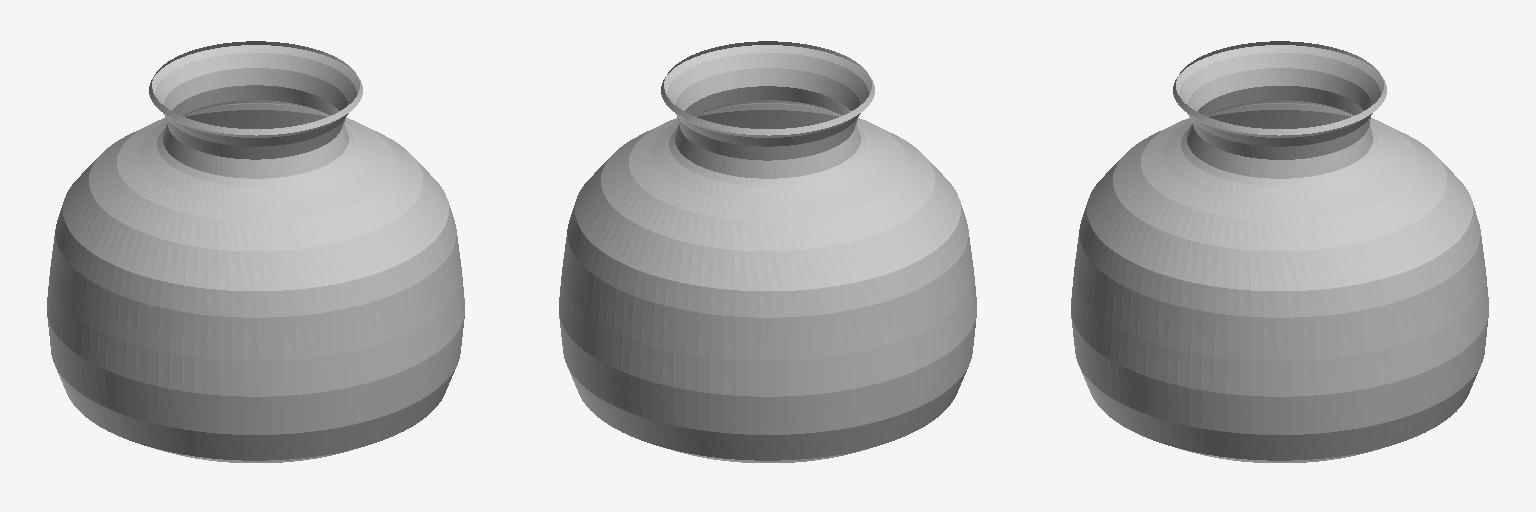
Rendered from Jar.obj.
3 renders of one model, left to right at view 1: azimuth 30°, elevation 25°; view 2: azimuth 150°, elevation 25°; view 3: azimuth 270°, elevation 25°, orthographic.
Visible parts, largest first — view 1: Plane; view 2: Plane; view 3: Plane.
Part boxes in pixels (bbox=[...]): Plane: bbox=[47, 41, 464, 462]; Plane: bbox=[559, 41, 976, 462]; Plane: bbox=[1071, 41, 1488, 462].
Size of the model in its own units: 10.39 by 9.34 by 10.39.